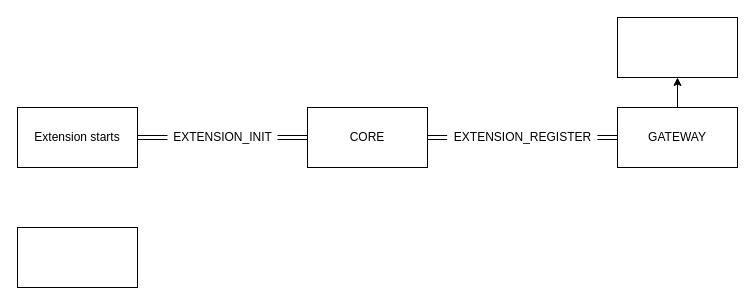
Image size: 755x305. Some labels were removed from this diagram. The shapes that lost their labels are listed below. From the top down, each one's box as (x1, y1, x2, y2) in pixels, then its label:
(616, 16, 738, 78): Allow requests to extension
(16, 226, 138, 288): EXTENSION2
